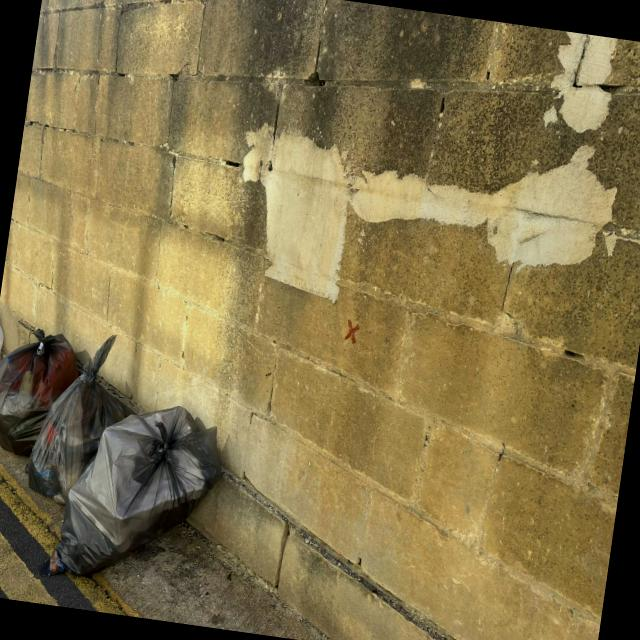black_bag: (56, 391, 228, 595), (19, 351, 145, 508), (0, 321, 83, 462)
